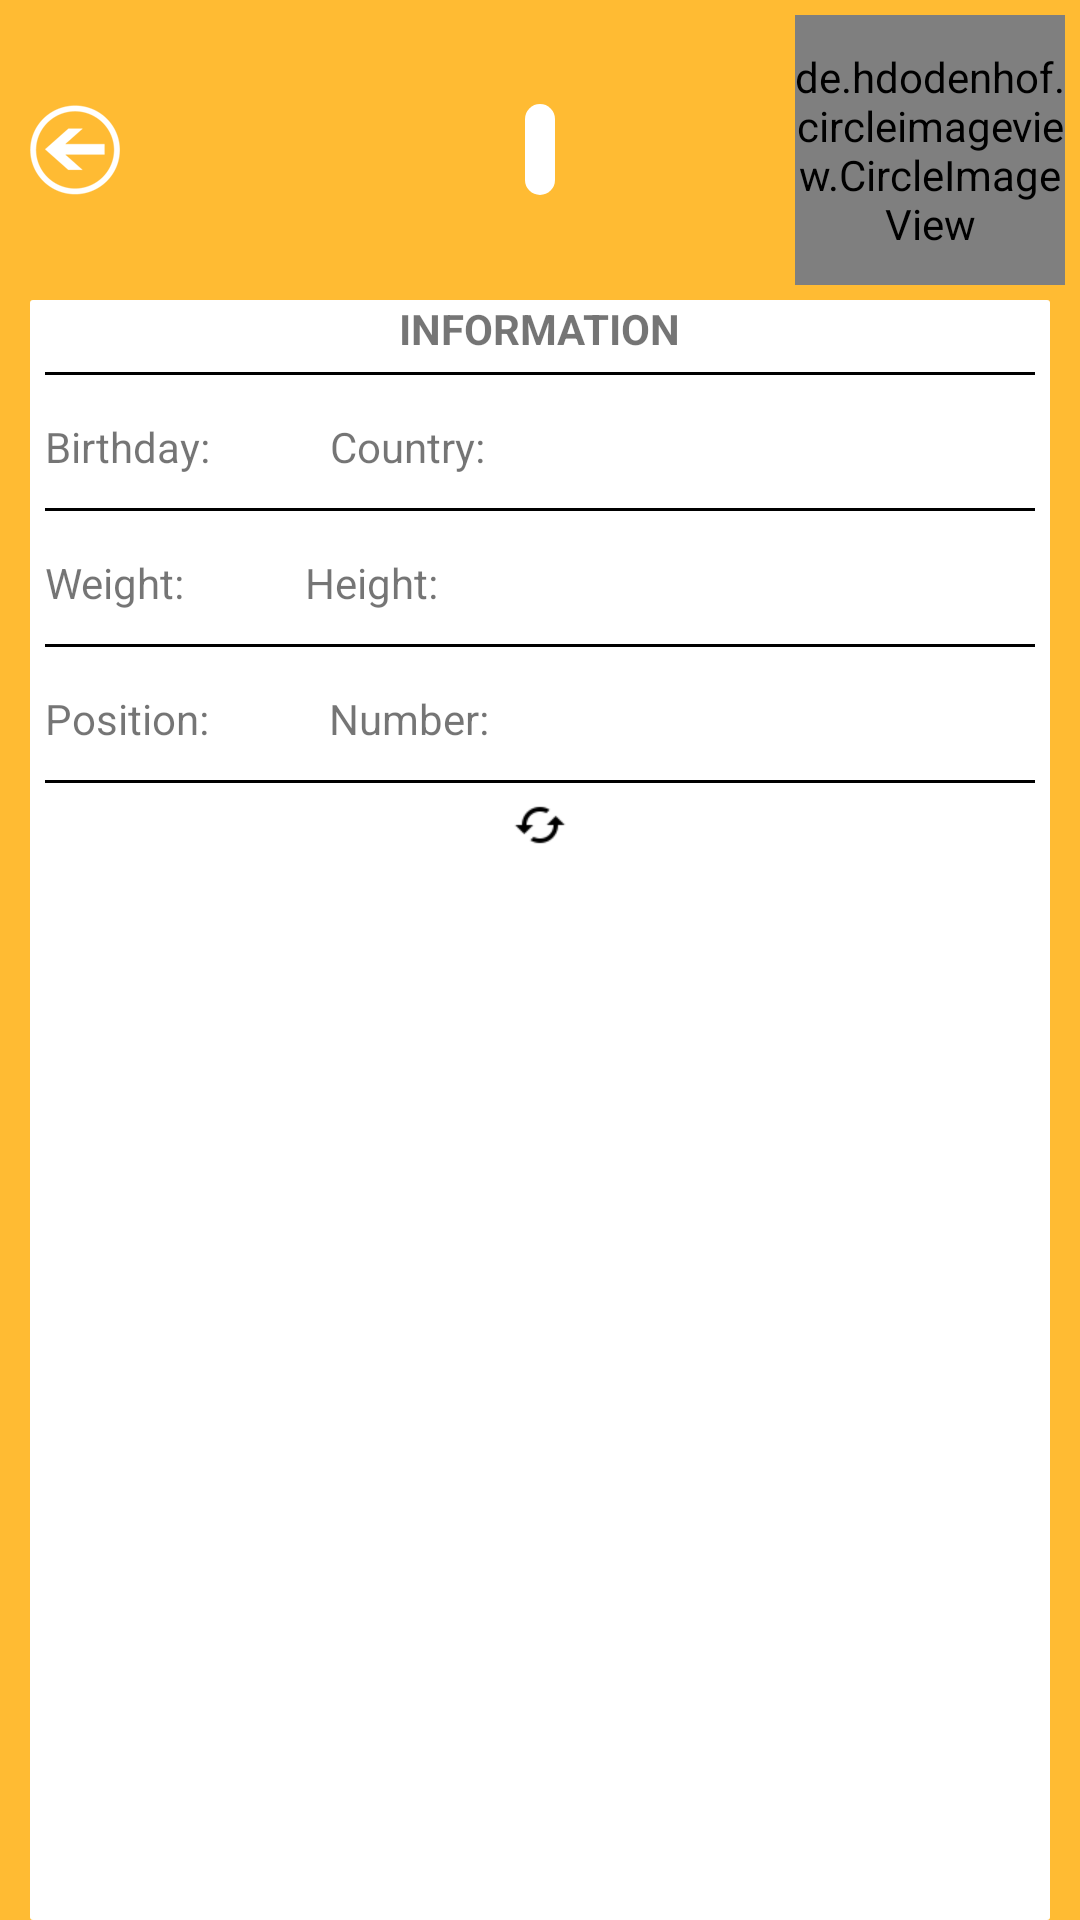

Where icons sit on this 1080px×1920px app screen, as {"left": x1, "top": y1, "right": x2, "bottom": y2}:
back: {"left": 30, "top": 105, "right": 120, "bottom": 195}
